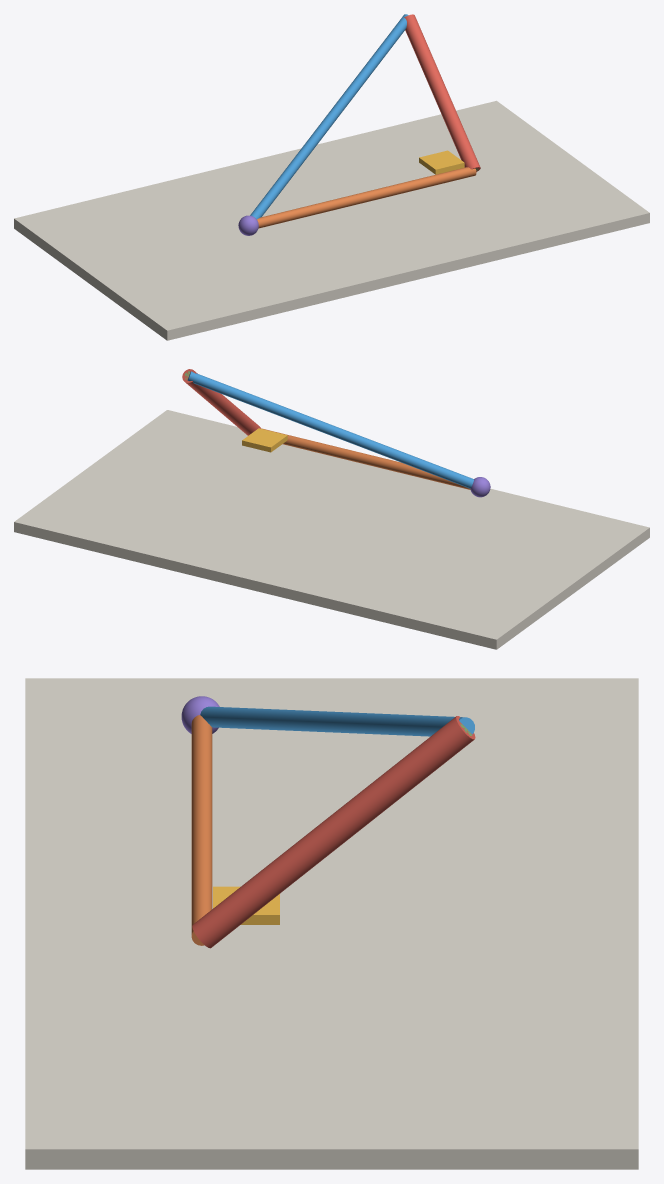
Rendered from math-advanced-math-trig-sine.glb.
3 views of the same model, one above another, from view 1: azimuth 30°, elevation 25°; view 2: azimuth 150°, elevation 25°; view 3: azimuth 270°, elevation 25° (orthographic). The views are drawn at different scales.
Visible parts, largest first — view 1: advanced-math-base, right-triangle-side-3, sine-opposite-highlight, right-triangle-side-1, right-angle-square; view 2: advanced-math-base, right-triangle-side-3, right-triangle-side-1, sine-opposite-highlight, right-angle-square; view 3: advanced-math-base, sine-opposite-highlight, right-triangle-side-3, right-triangle-side-1, right-angle-square.
Boxes of the visible parts, x1=… form: advanced-math-base: x1=14, y1=100, x2=649, y2=340; right-triangle-side-3: x1=250, y1=14, x2=408, y2=219; sine-opposite-highlight: x1=404, y1=14, x2=480, y2=171; right-triangle-side-1: x1=257, y1=167, x2=476, y2=228; right-angle-square: x1=419, y1=150, x2=464, y2=174; advanced-math-base: x1=14, y1=410, x2=649, y2=649; right-triangle-side-3: x1=187, y1=371, x2=473, y2=488; right-triangle-side-1: x1=261, y1=428, x2=470, y2=489; sine-opposite-highlight: x1=182, y1=369, x2=260, y2=435; right-angle-square: x1=242, y1=428, x2=287, y2=452; advanced-math-base: x1=25, y1=678, x2=638, y2=1169; sine-opposite-highlight: x1=192, y1=716, x2=475, y2=948; right-triangle-side-3: x1=200, y1=706, x2=474, y2=736; right-triangle-side-1: x1=191, y1=715, x2=212, y2=945; right-angle-square: x1=213, y1=886, x2=279, y2=924.
Size of what is drawn, in the model's own units: 3 by 0.9601 by 1.65.
